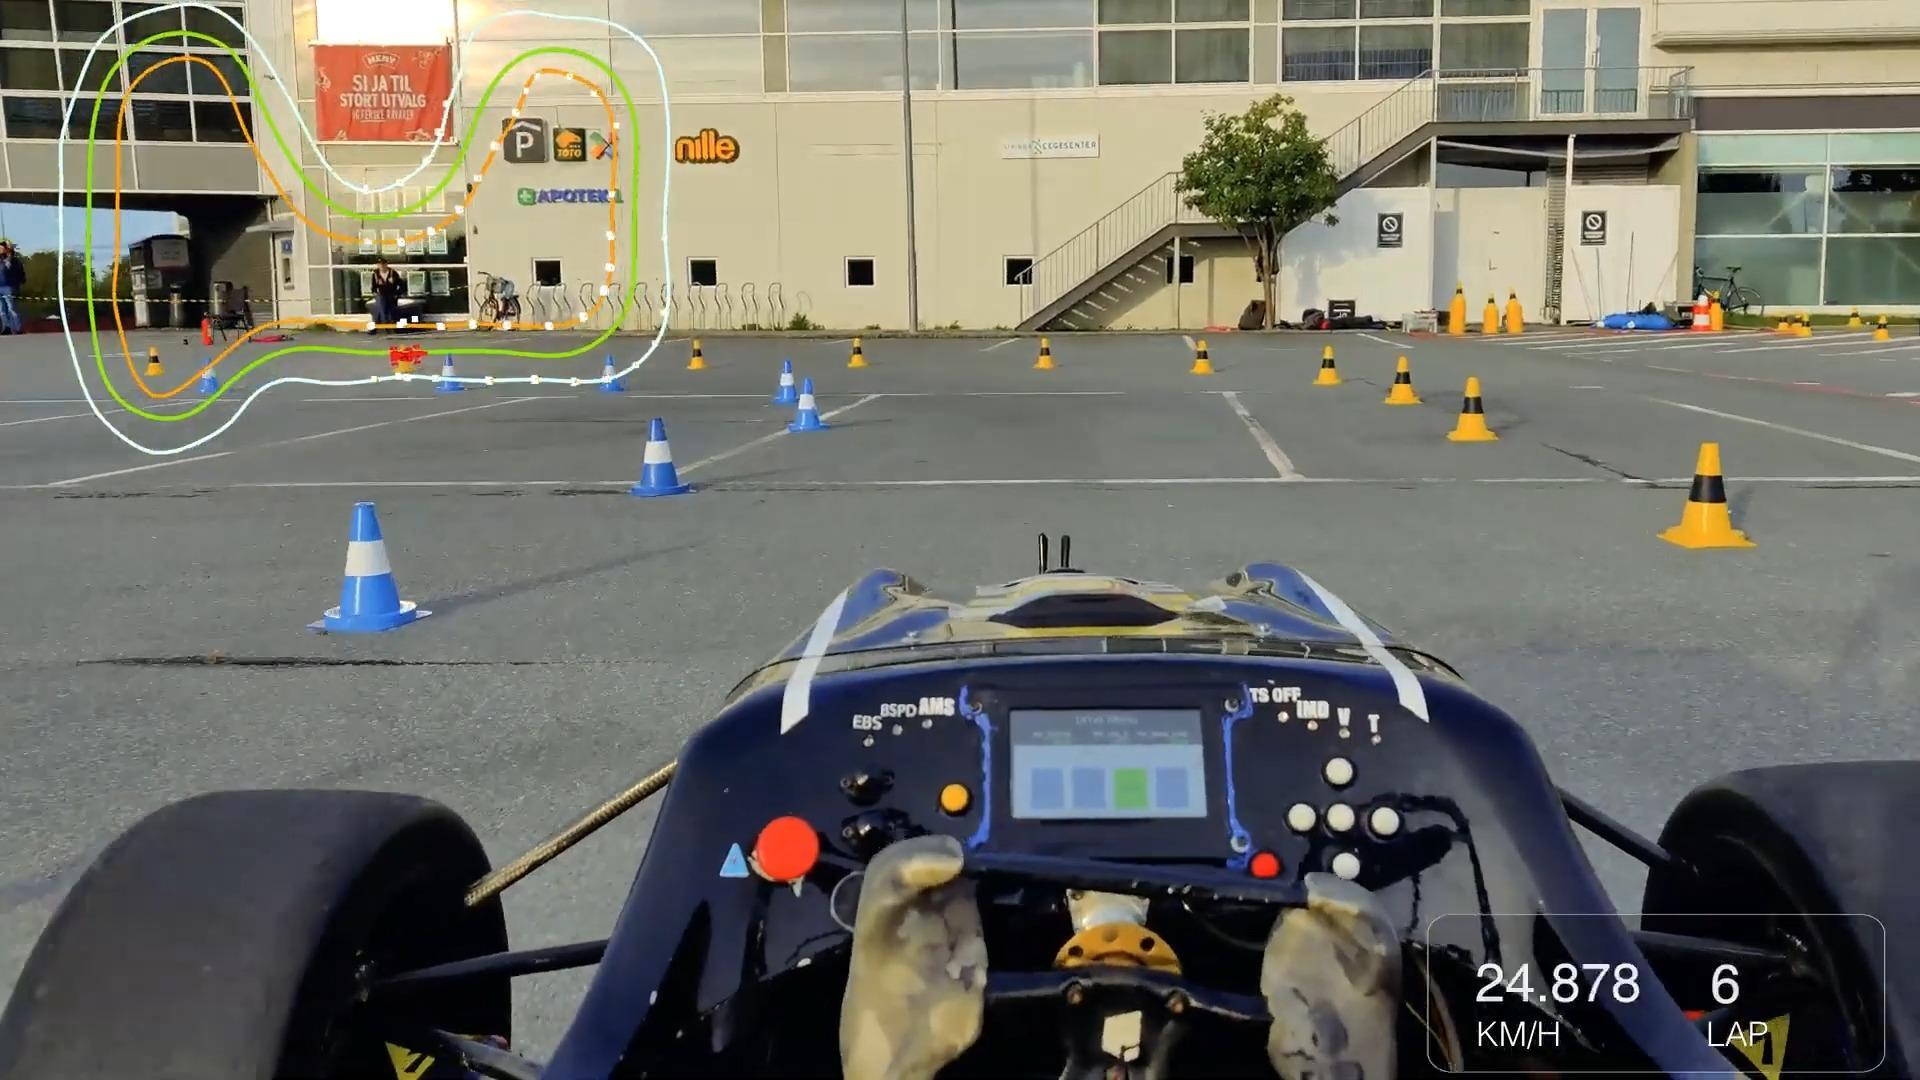blue_cone: (306, 491, 421, 642), (762, 352, 825, 430), (637, 427, 686, 500)
yellow_cone: (1665, 415, 1746, 554), (1444, 375, 1505, 455), (1305, 339, 1353, 390), (1382, 355, 1425, 410), (1176, 327, 1221, 380), (839, 327, 872, 372), (1026, 331, 1063, 371)
